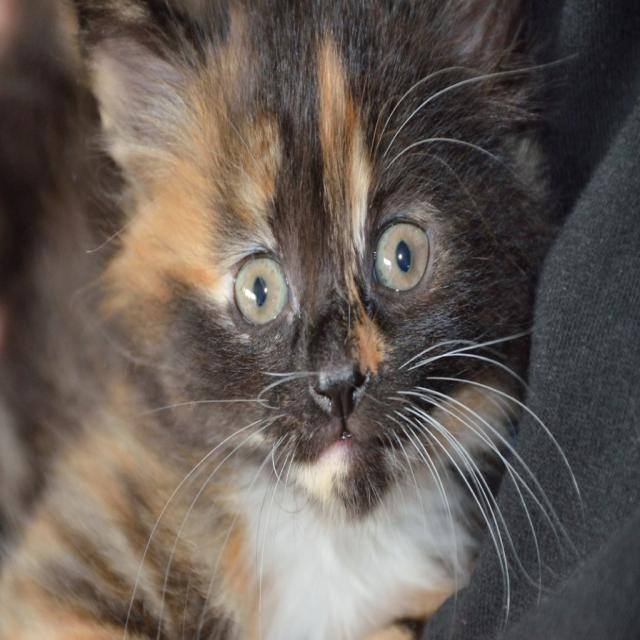Cat: (2, 1, 583, 635)
